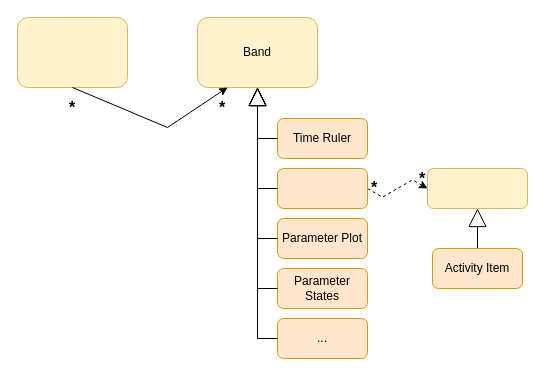
Image size: 545x376. Some labels were removed from this diagram. Here are the shapes that lost their labels. From the top down, the centre of each, then its label:
pixel 72 52: View
pixel 322 188: Item Band
pixel 477 188: Item
